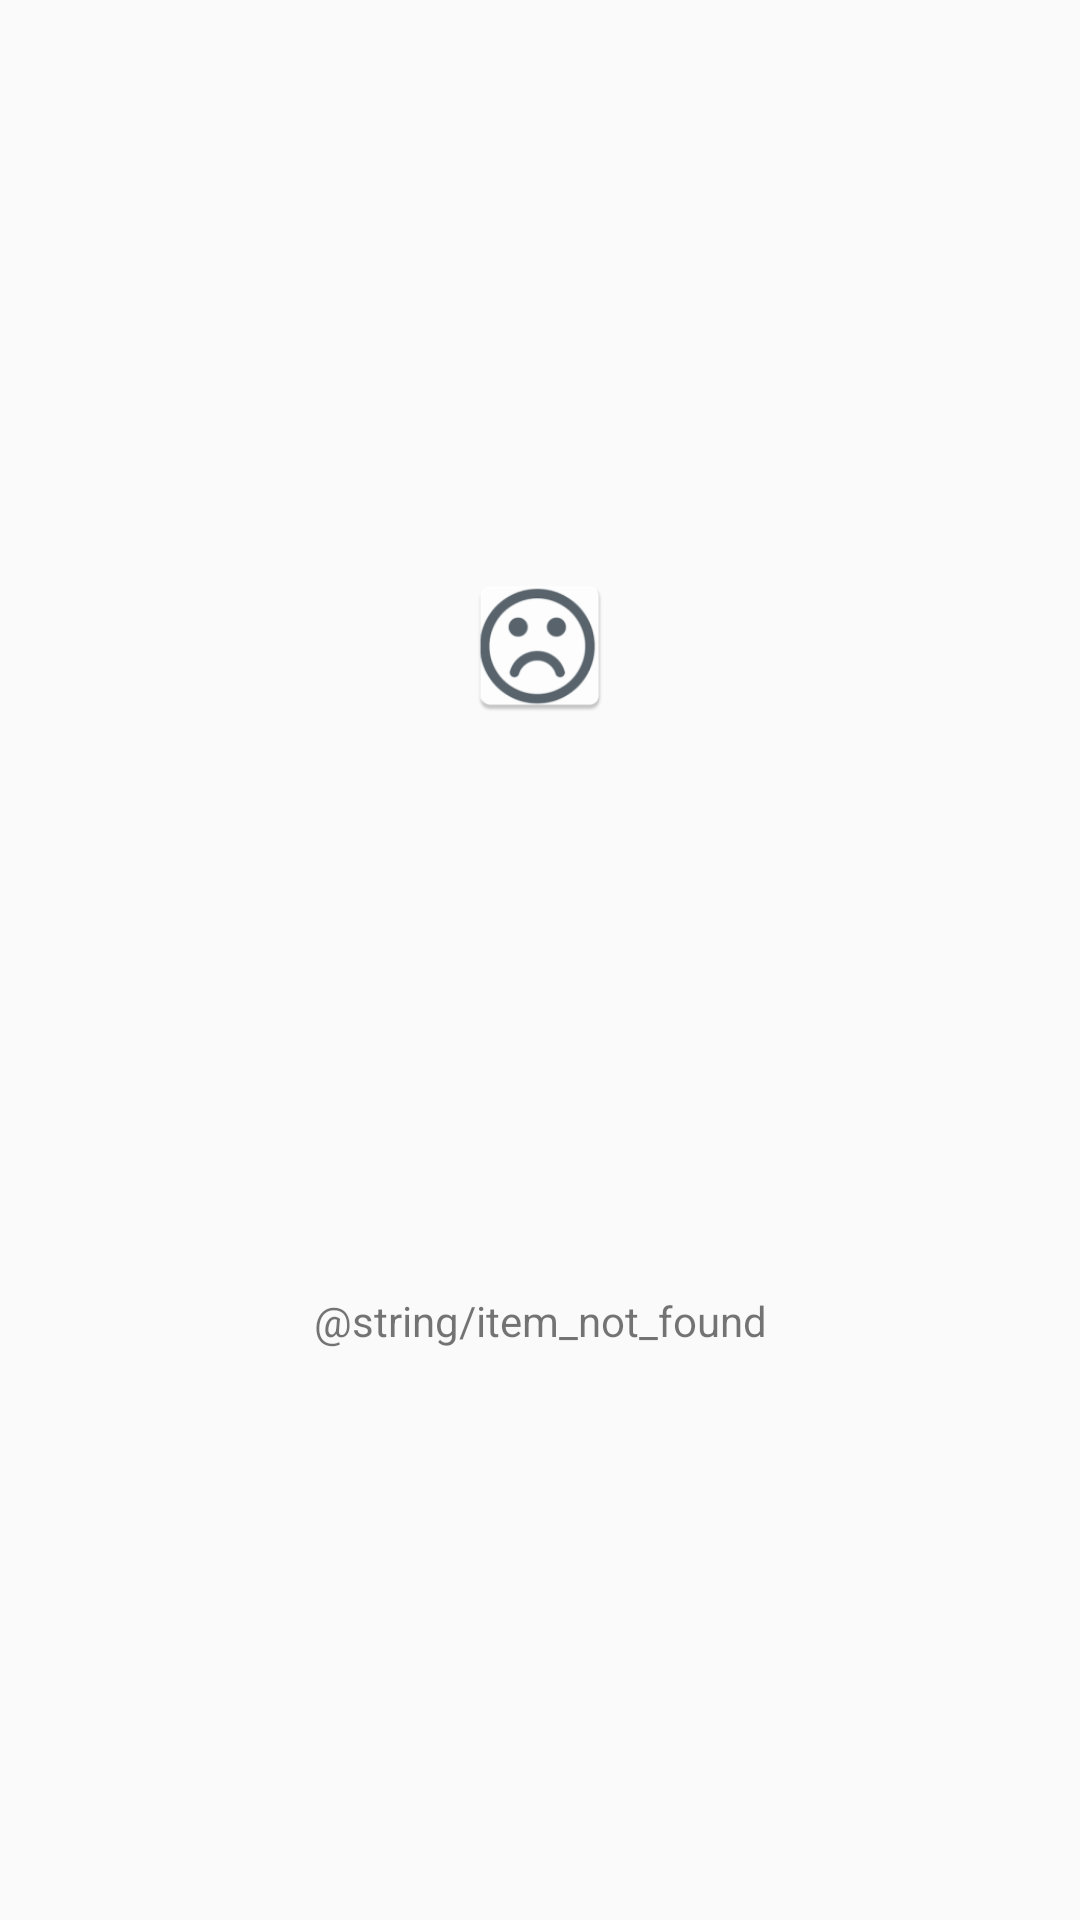

Screen size 1080 × 1920. Icon name, then its box in pixels as (x1, y1, x2, y2):
not found: (480, 588, 600, 709)
